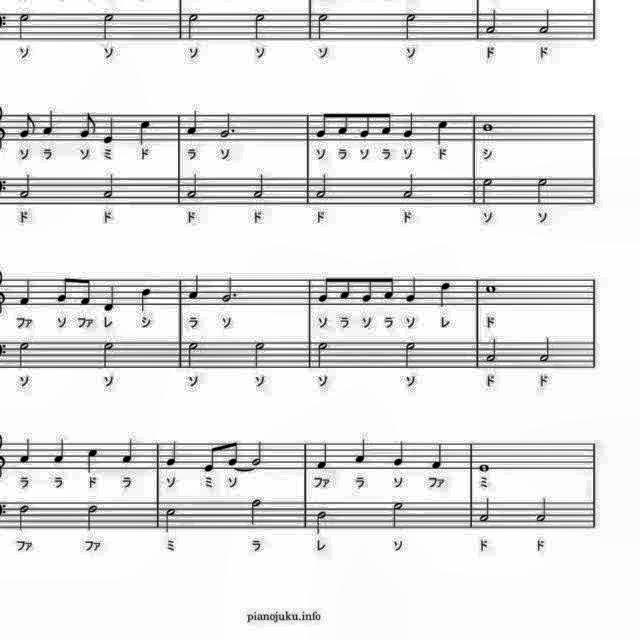Eighth-note: (77, 110, 99, 142), (17, 108, 38, 140), (358, 273, 376, 305), (201, 442, 219, 474), (318, 272, 334, 306), (338, 272, 356, 302), (78, 274, 94, 306), (56, 272, 72, 304), (357, 110, 373, 142), (316, 110, 332, 142), (224, 437, 240, 468), (336, 109, 352, 139), (381, 274, 397, 302), (380, 110, 394, 138)
Full-note: (480, 119, 498, 133), (484, 281, 500, 295), (477, 460, 493, 474)
Half-dot: (218, 110, 238, 142), (218, 274, 238, 306)
Half-note: (247, 496, 266, 530), (388, 500, 408, 532), (532, 174, 552, 206), (403, 338, 421, 372), (100, 170, 120, 200), (476, 494, 496, 524), (14, 339, 32, 371), (14, 11, 32, 43), (14, 502, 32, 534), (399, 170, 417, 202), (98, 339, 116, 371), (83, 500, 101, 532), (250, 10, 268, 42), (479, 176, 497, 208), (98, 10, 116, 42), (253, 340, 270, 372), (183, 338, 200, 370), (404, 10, 421, 42), (184, 171, 202, 201), (535, 7, 553, 37), (533, 496, 551, 526), (536, 335, 554, 365), (485, 337, 503, 367), (248, 437, 266, 467), (485, 7, 503, 36), (316, 339, 332, 371), (15, 171, 32, 201), (183, 12, 200, 42), (314, 11, 331, 41), (313, 172, 331, 200), (313, 508, 331, 536), (250, 170, 266, 200), (162, 504, 178, 534)
Quarter-note: (428, 438, 446, 472), (313, 438, 331, 472), (39, 106, 57, 138), (437, 278, 455, 310), (101, 116, 119, 148), (353, 434, 371, 466), (162, 436, 180, 468), (101, 282, 119, 314), (17, 276, 35, 308), (389, 437, 406, 469), (404, 274, 421, 306), (118, 436, 136, 466), (402, 108, 418, 140), (18, 434, 34, 466), (183, 109, 200, 139), (185, 271, 202, 301), (136, 118, 154, 146), (433, 118, 451, 146), (52, 437, 68, 468), (84, 443, 100, 473), (138, 286, 154, 314)
